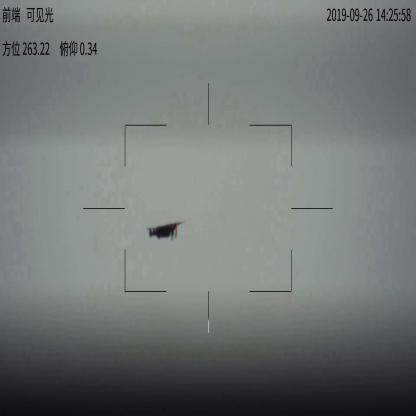uav: (142, 221, 184, 240)
